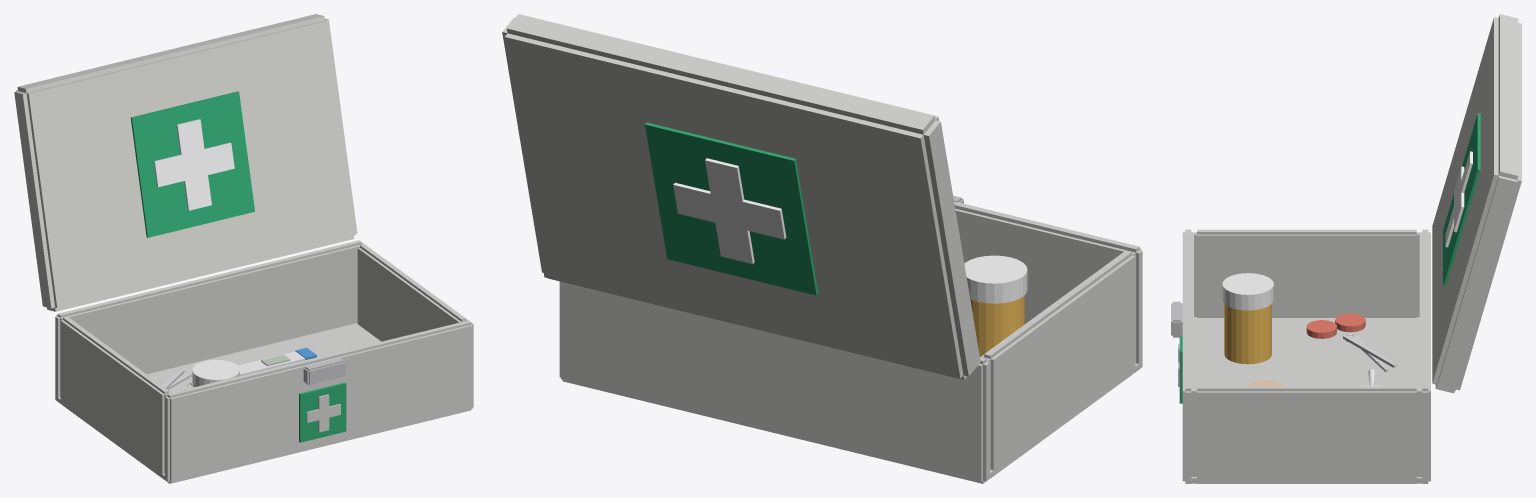
Rendered from FirstAidKit.fbx.
The picture shows the model from 3 angles, left to right: view 1: azimuth 30°, elevation 25°; view 2: azimuth 150°, elevation 25°; view 3: azimuth 270°, elevation 25°; orthographic projection. The views are drawn at different scales.
Visible parts, largest first — view 1: FirstAid_Lid, FirstAid_Kit, PillBottle, Thermometer; view 2: FirstAid_Lid, FirstAid_Kit, PillBottle; view 3: FirstAid_Kit, FirstAid_Lid, PillBottle, Scissors.
Part boxes in pixels (<box>): FirstAid_Lid: <box>14,14,357,311</box>; FirstAid_Kit: <box>55,240,473,483</box>; PillBottle: <box>192,360,239,387</box>; Thermometer: <box>187,347,316,386</box>; FirstAid_Lid: <box>502,14,980,379</box>; FirstAid_Kit: <box>559,195,1142,483</box>; PillBottle: <box>964,255,1027,356</box>; FirstAid_Kit: <box>1171,229,1430,483</box>; FirstAid_Lid: <box>1432,14,1521,393</box>; PillBottle: <box>1222,273,1273,364</box>; Scissors: <box>1306,313,1396,372</box>.
Bounding box in the file's own units: 0.4 × 0.3598 × 0.367.
